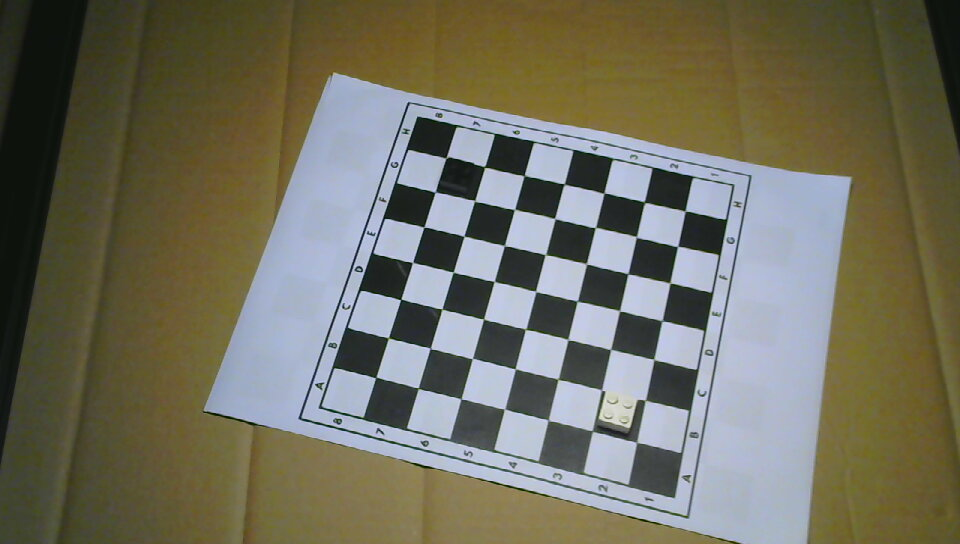wp: (596, 390, 638, 434)
